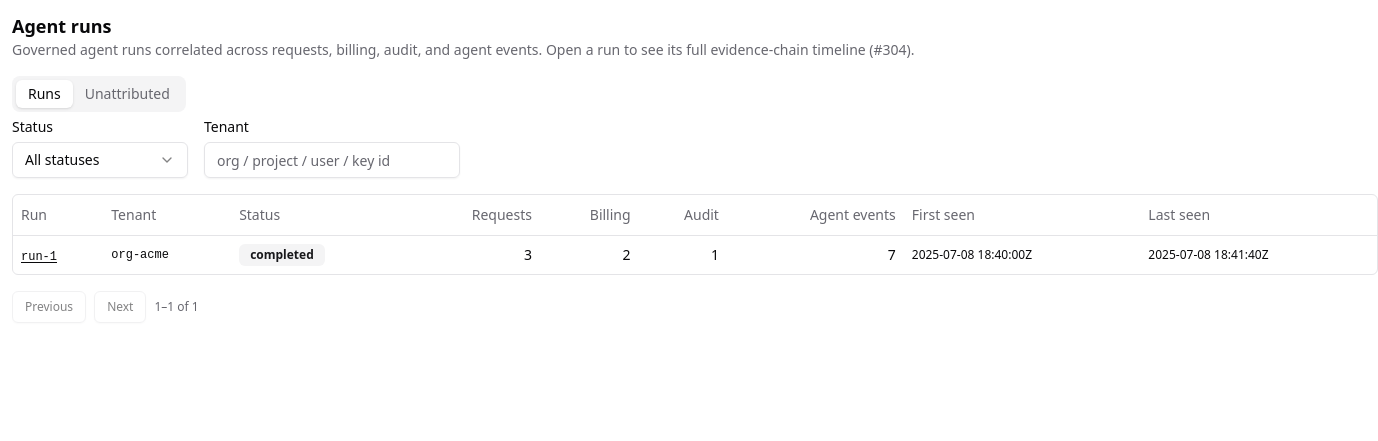
Test: AgentRunsPage — unattributed activity › treats a missing presence-feed qualifier as degraded
Click the tab "Unattributed" at (127, 94), box [73,80,182,108]
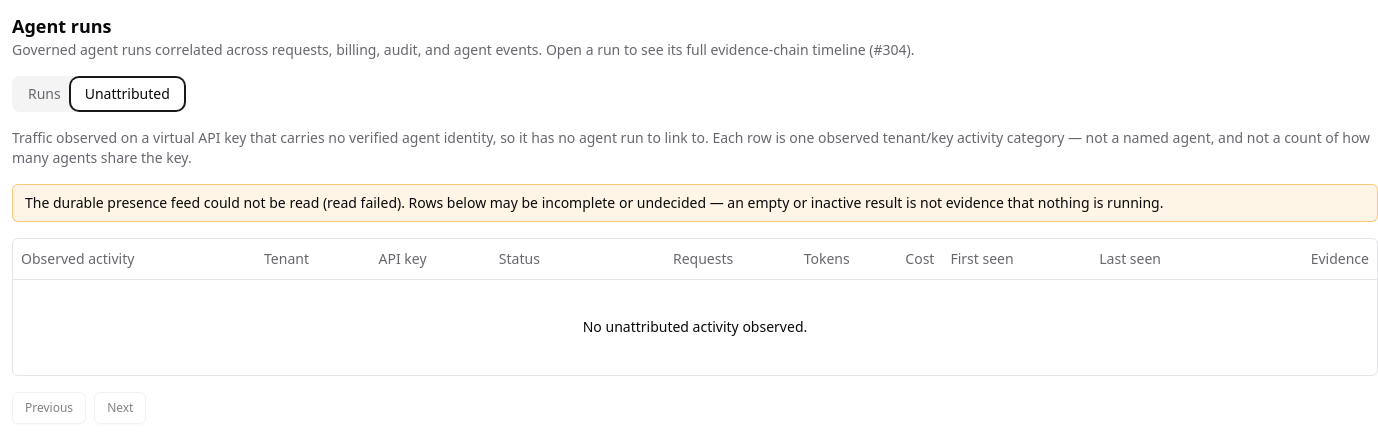
Expected: the message shows "The durable presence feed could not be read (read failed).", [25,193,1164,212]
